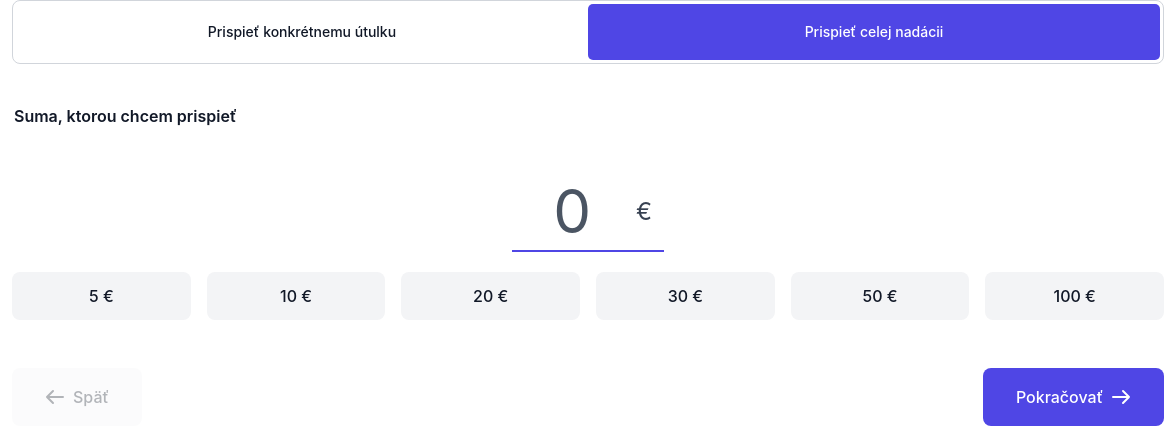
Test: SelectionForm › normalizes a localized amount paste without losing cents
Click the field named "Vlastná suma".
click(588, 212)  # box [512,172,664,252]
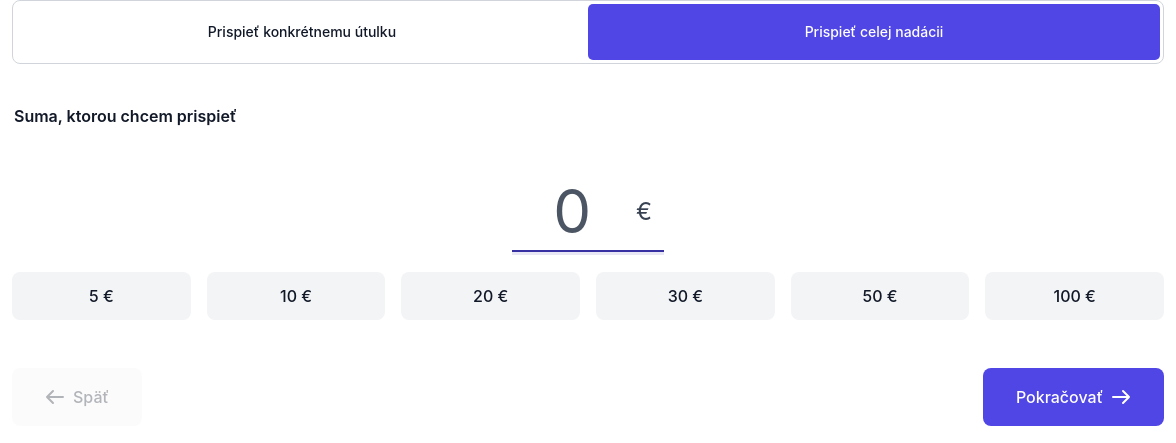
Type keys "1 234,56 €"
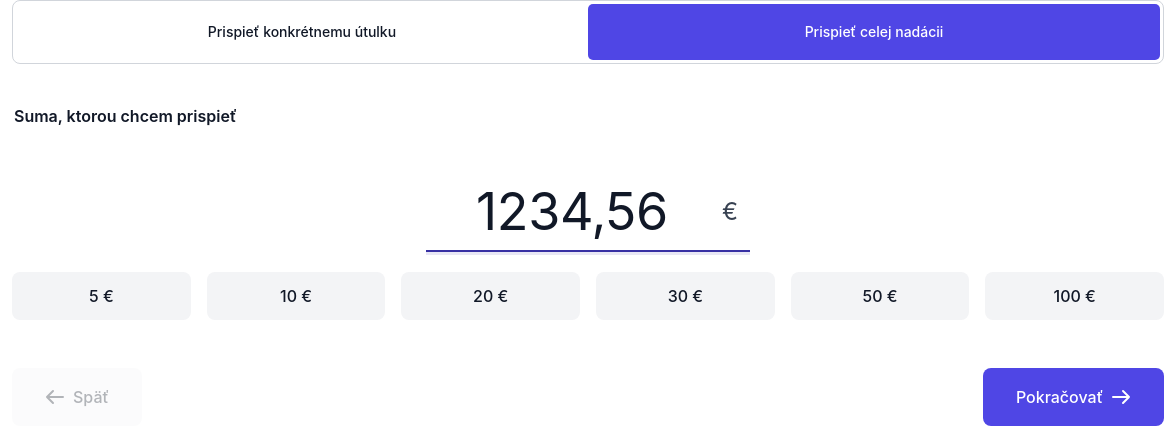
Check: the field named "Vlastná suma" holds "1234,56", box [426,172,750,252]
